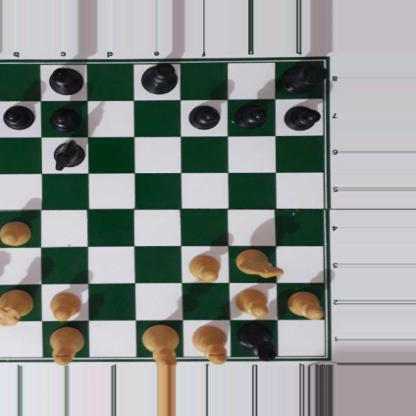black-bishop: (236, 323, 276, 361), (45, 67, 85, 95)
black-king: (138, 61, 179, 94)
black-knight: (50, 140, 87, 171)
black-pawn: (284, 103, 319, 131), (234, 102, 268, 128), (187, 103, 220, 129), (2, 104, 32, 130), (50, 105, 79, 131)
black-rook: (282, 58, 324, 92)
white-bishop: (49, 326, 86, 365), (190, 325, 227, 363)
white-king: (141, 324, 179, 365)
white-knight: (234, 247, 285, 278)
white-pawn: (233, 286, 270, 317), (47, 290, 81, 320), (286, 290, 323, 317), (187, 253, 220, 282), (0, 218, 33, 245)
white-rook: (0, 288, 33, 325)
